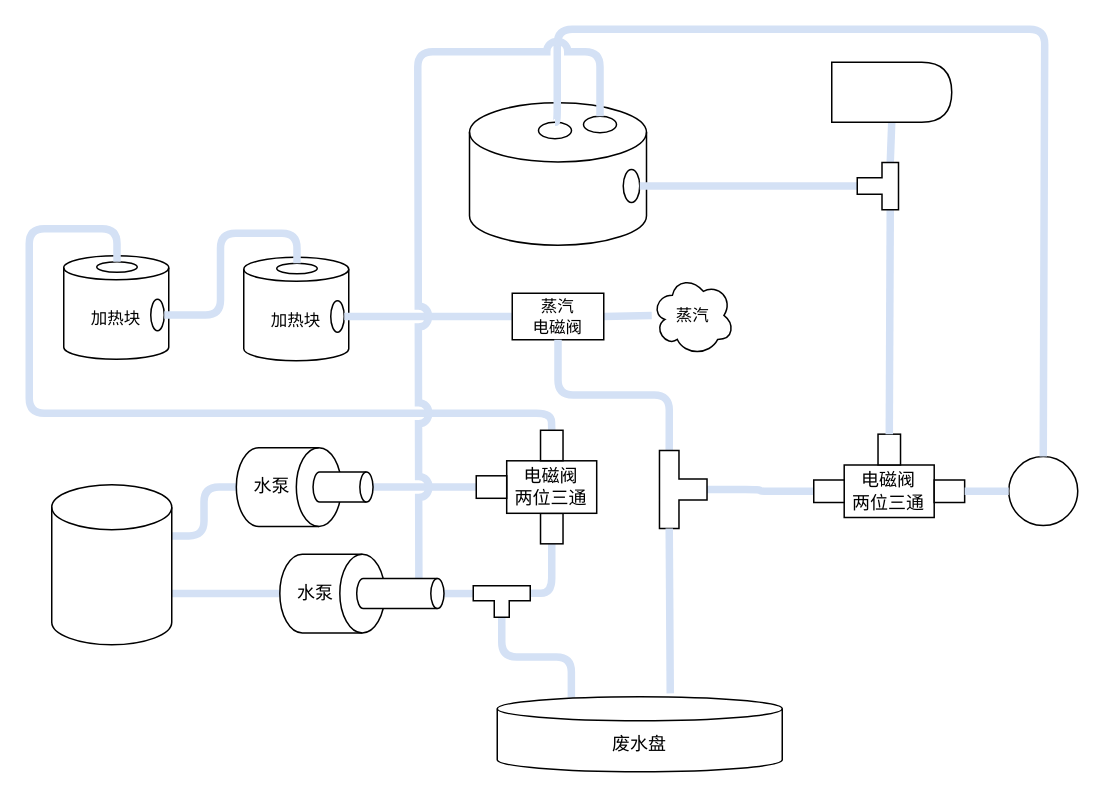
Image size: 1104x798. Some labels were removed from this diagram. The shapes that lost their labels are listed below. From the top down, each one's centre as x and y in pixels, then its label:
point (891, 91): 热水
point (557, 173): 锅炉
point (1042, 490): 压力表
point (111, 564): 水箱
